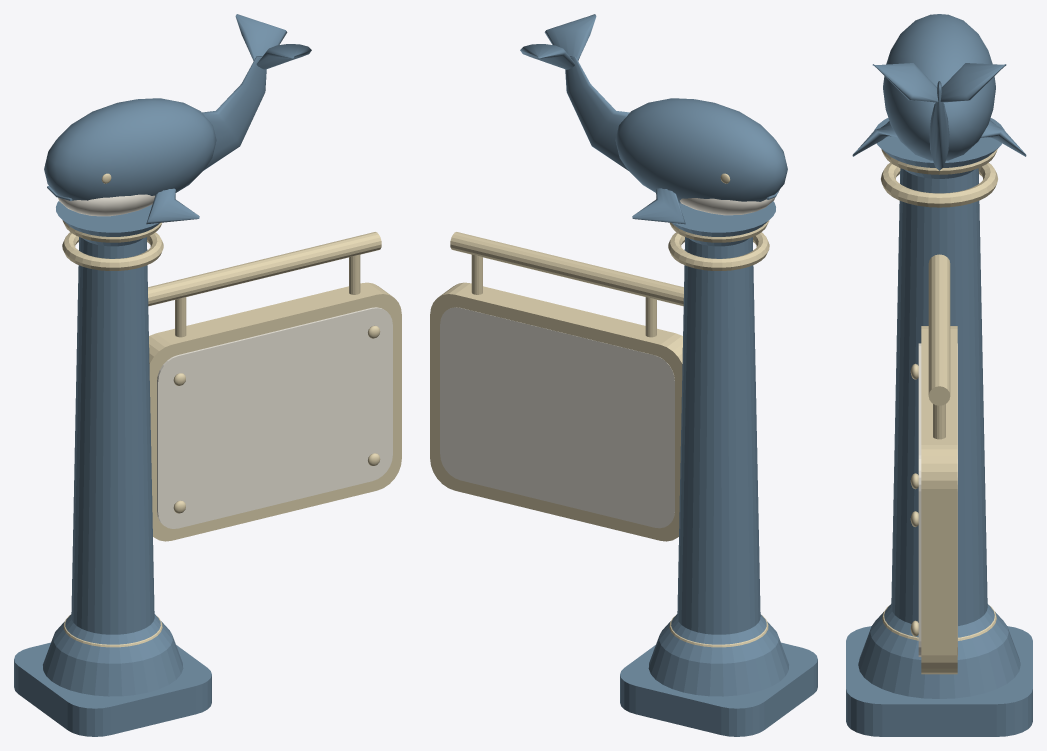
File: library_whale_sign.glb
3 views of the same model, side by side, from view 1: azimuth 30°, elevation 25°; view 2: azimuth 150°, elevation 25°; view 3: azimuth 270°, elevation 25° (orthographic). The views are drawn at different scales.
Visible parts, largest first — view 1: decor_29445e_matte, decor_e0d7bf_matte, decor_bca46d_metal; view 2: decor_29445e_matte, decor_e0d7bf_matte, decor_bca46d_metal; view 3: decor_29445e_matte, decor_bca46d_metal, decor_e0d7bf_matte.
Part boxes in pixels (bbox=[...]): decor_29445e_matte: bbox=[14, 14, 311, 736]; decor_e0d7bf_matte: bbox=[58, 194, 392, 528]; decor_bca46d_metal: bbox=[62, 173, 401, 647]; decor_29445e_matte: bbox=[520, 14, 817, 736]; decor_e0d7bf_matte: bbox=[440, 197, 775, 528]; decor_bca46d_metal: bbox=[430, 173, 769, 647]; decor_29445e_matte: bbox=[846, 14, 1032, 736]; decor_bca46d_metal: bbox=[881, 149, 997, 674]; decor_e0d7bf_matte: bbox=[918, 343, 957, 656].
Bounding box in the file's own units: 1.56 × 2.64 × 0.62.
